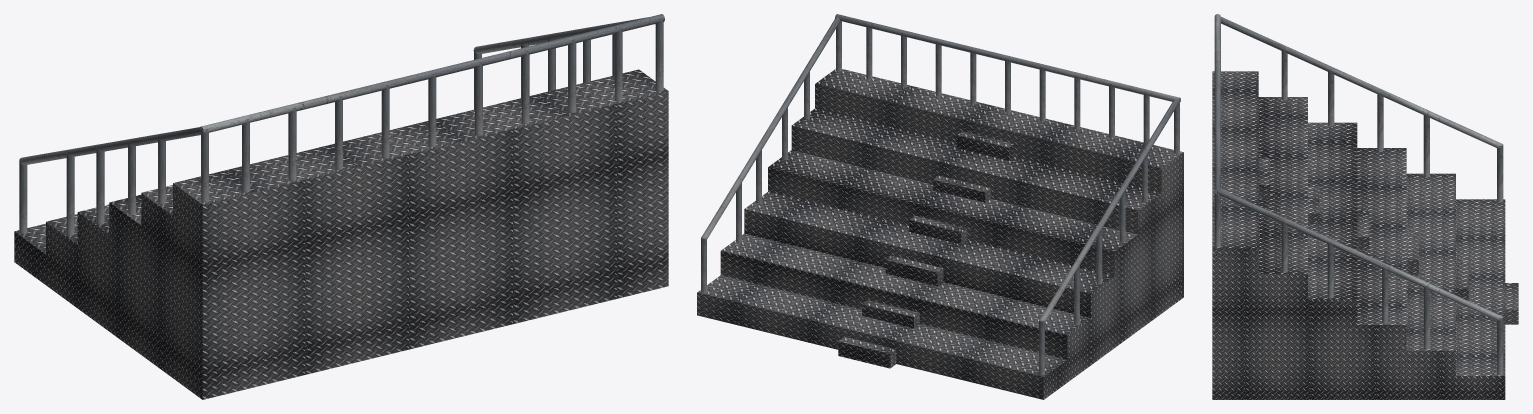
The model's file is Gradas.obj.
3 renders of one model, left to right at view 1: azimuth 30°, elevation 25°; view 2: azimuth 150°, elevation 25°; view 3: azimuth 270°, elevation 25°, orthographic. The views are drawn at different scales.
Visible parts, largest first — view 1: Escalones_de_gradas, Cylinder.022, Cylinder.021, Cylinder.020, Cylinder.023, Cylinder.024, Cylinder.031, Cylinder.034, Cylinder.018, Cylinder.033, Cylinder.038, Cylinder.017 (+4 smaller); view 2: Escalones_de_gradas, Cylinder.022, Cylinder.021, Cylinder.020; view 3: Escalones_de_gradas, Cylinder.020, Cylinder.021, Cylinder.022, Cylinder.023, Cylinder.027, Cylinder.024, Cylinder.016, Cylinder.017, Cylinder.018, Cylinder.028, Cylinder.029 (+3 smaller).
Part boxes in pixels (x1,y1,x2,y2): Escalones_de_gradas: [14, 69, 668, 399]; Cylinder.022: [199, 14, 664, 134]; Cylinder.021: [19, 127, 202, 165]; Cylinder.020: [473, 17, 654, 54]; Cylinder.023: [66, 153, 74, 235]; Cylinder.024: [96, 147, 104, 224]; Cylinder.031: [428, 73, 436, 147]; Cylinder.034: [614, 28, 622, 101]; Cylinder.018: [655, 18, 663, 91]; Cylinder.033: [521, 50, 529, 124]; Cylinder.038: [568, 39, 576, 112]; Cylinder.017: [19, 159, 27, 233]; Escalones_de_gradas: [697, 69, 1183, 399]; Cylinder.022: [835, 14, 1180, 103]; Cylinder.021: [1039, 99, 1179, 322]; Cylinder.020: [701, 17, 840, 240]; Escalones_de_gradas: [1212, 71, 1518, 399]; Cylinder.020: [1216, 189, 1502, 320]; Cylinder.021: [1220, 17, 1502, 148]; Cylinder.022: [1214, 14, 1220, 194]; Cylinder.023: [1423, 113, 1429, 176]; Cylinder.027: [1423, 286, 1429, 349]; Cylinder.024: [1377, 92, 1383, 151]; Cylinder.016: [1497, 316, 1503, 375]; Cylinder.017: [1497, 144, 1503, 202]; Cylinder.018: [1214, 189, 1220, 247]; Cylinder.028: [1382, 268, 1388, 323]; Cylinder.029: [1327, 243, 1333, 298].
Size of the model in its own units: 40 by 22.15 by 29.25.
Materials: 2 (2 with a texture image).
